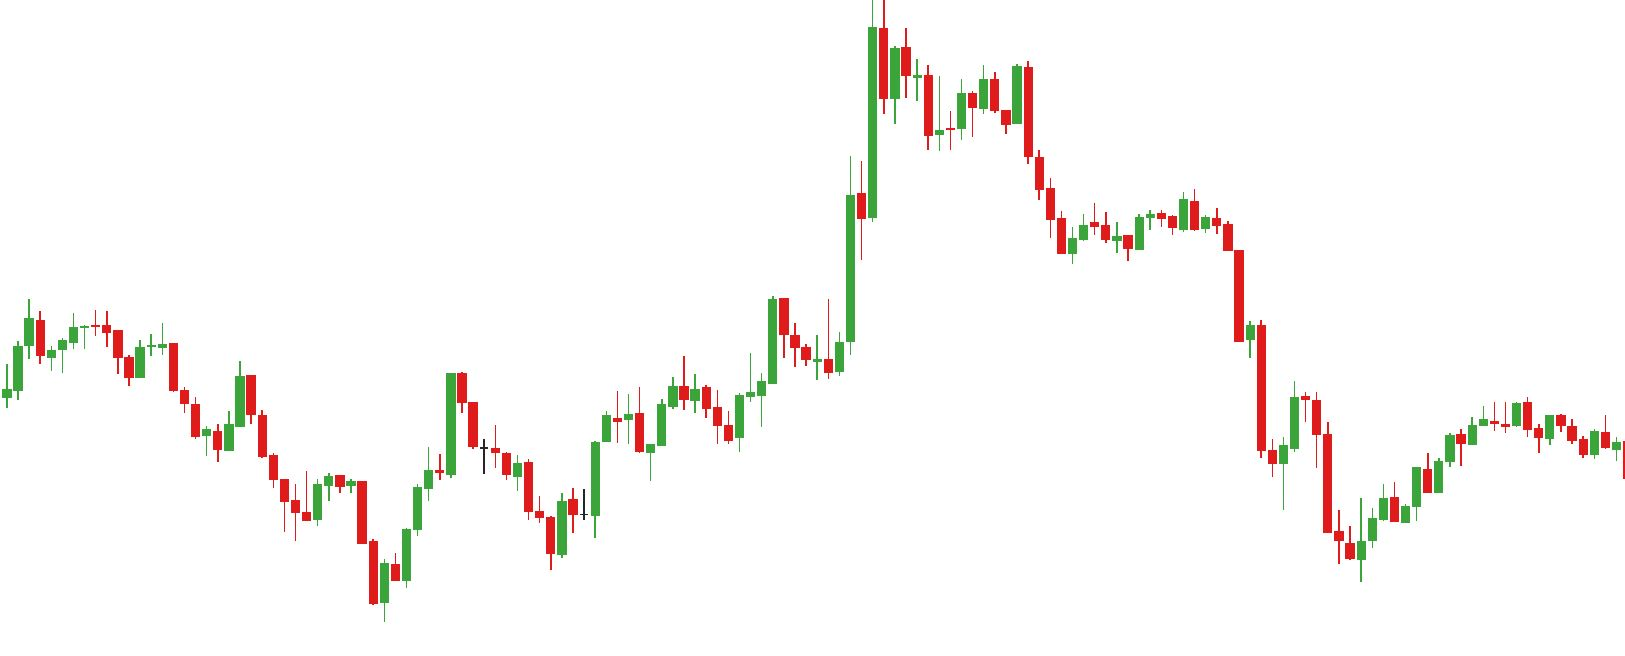buy: (287, 503, 414, 626)
